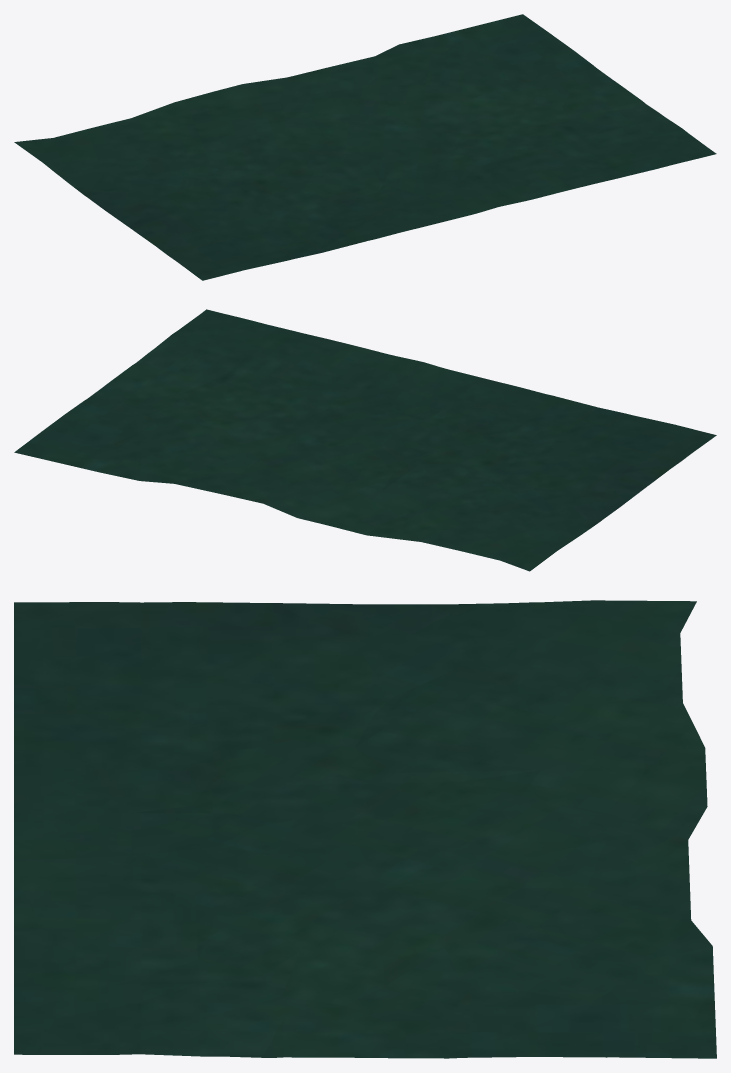
The picture shows the model from 3 angles, top to bottom: view 1: azimuth 30°, elevation 25°; view 2: azimuth 150°, elevation 25°; view 3: azimuth 270°, elevation 25°; orthographic projection. The views are drawn at different scales.
Size of the model in its own units: 52.22 by 0.4593 by 34.13.
Materials: 2 (2 with a texture image).
